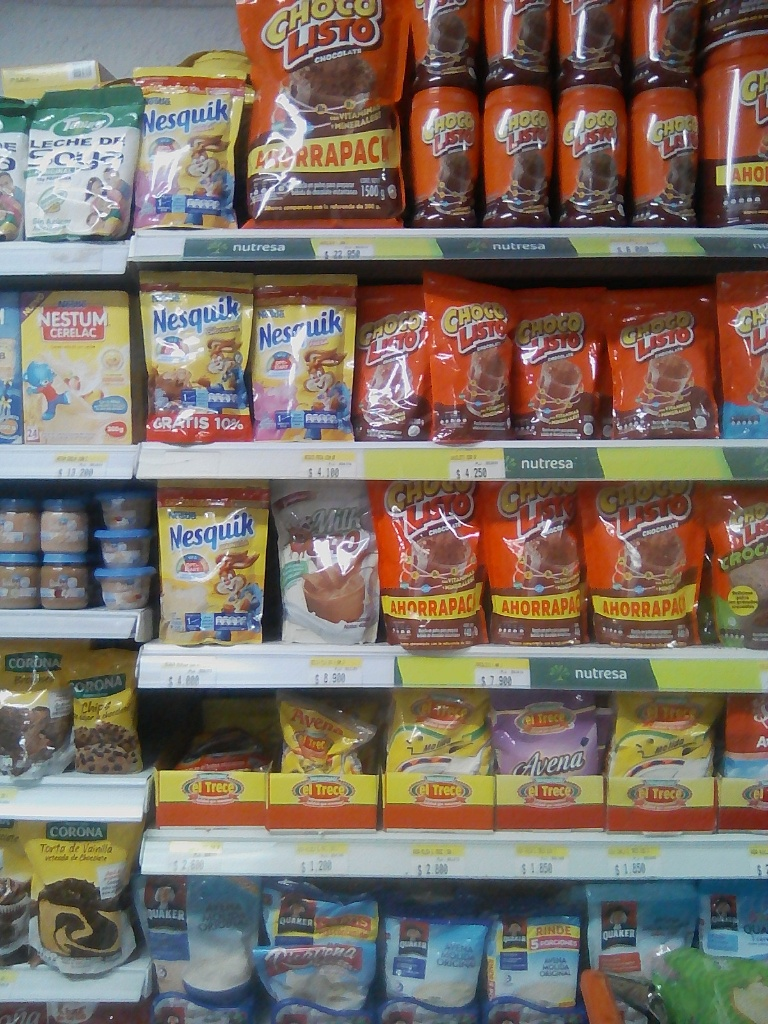COL0170102DYP50000: (699, 485, 765, 645)
COL0170103DYP1,500: (245, 3, 402, 227)
COL0170103DYP44000: (375, 479, 484, 646)
COL0170103TRR00100: (703, 31, 766, 224)
COL0170103TRR30000: (630, 0, 708, 84)
COL0170104DYP20000: (710, 266, 768, 447)
